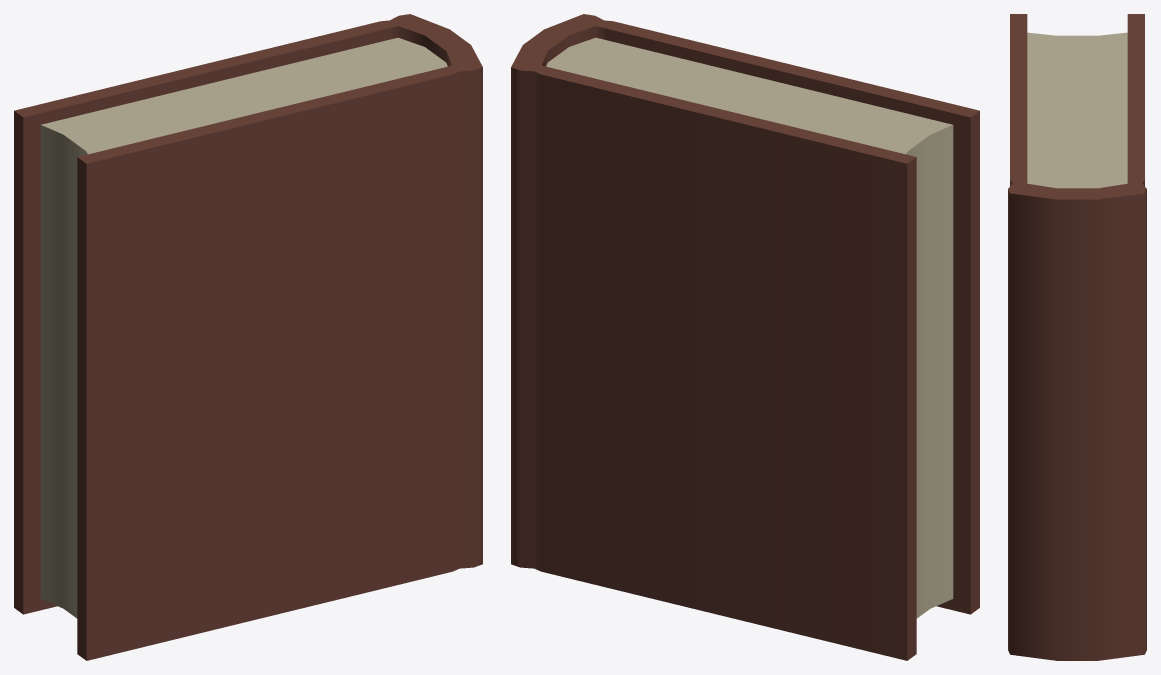
File: Book_Red.glb
3 views of the same model, side by side, from view 1: azimuth 30°, elevation 25°; view 2: azimuth 150°, elevation 25°; view 3: azimuth 270°, elevation 25° (orthographic). The views are drawn at different scales.
Visible parts, largest first — view 1: Book_Red; view 2: Book_Red; view 3: Book_Red.
Part boxes in pixels (<box>): Book_Red: <box>14,14,482,660</box>; Book_Red: <box>511,14,979,660</box>; Book_Red: <box>1008,14,1146,660</box>.
Size of the model in its own units: 0.3378 by 0.3913 by 0.1068.
Materials: 2 (2 with a texture image).
